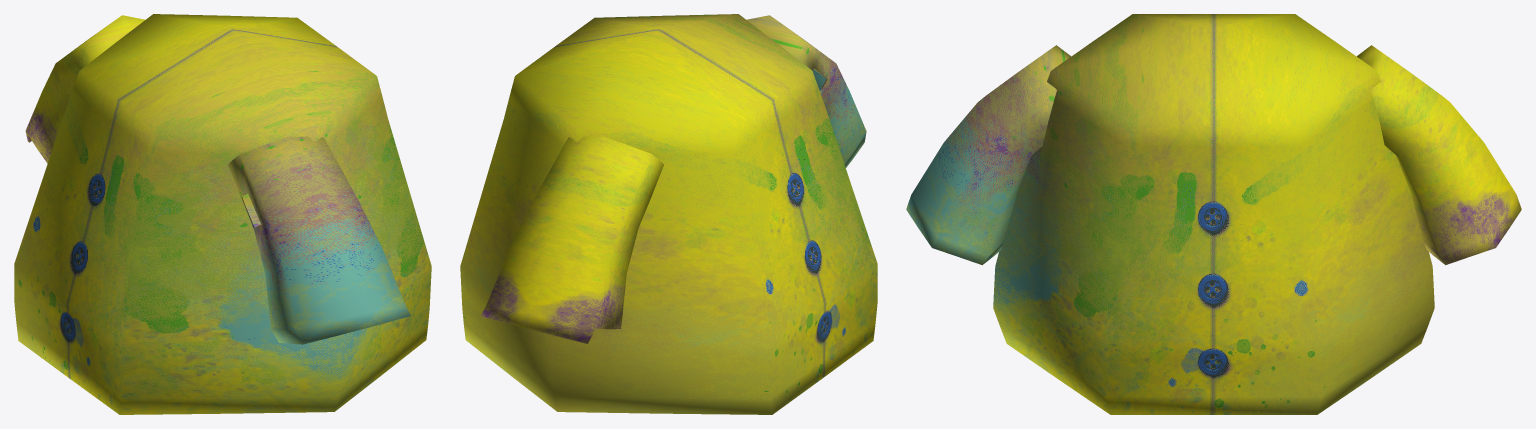
File: Yellow_Smock.glb
3 views of the same model, side by side, from view 1: azimuth 30°, elevation 25°; view 2: azimuth 150°, elevation 25°; view 3: azimuth 270°, elevation 25° (orthographic). The views are drawn at different scales.
Parts seen in each view (by area): view 1: Yellow Smock; view 2: Yellow Smock; view 3: Yellow Smock.
Boxes of the visible parts, left/top/right/bottom form: Yellow Smock: left=14, top=14, right=431, bottom=414; Yellow Smock: left=460, top=14, right=877, bottom=414; Yellow Smock: left=906, top=14, right=1521, bottom=414.
Bounding box in the file's own units: 1.46 × 1.48 × 2.45.
Materials: 1 (1 with a texture image).
